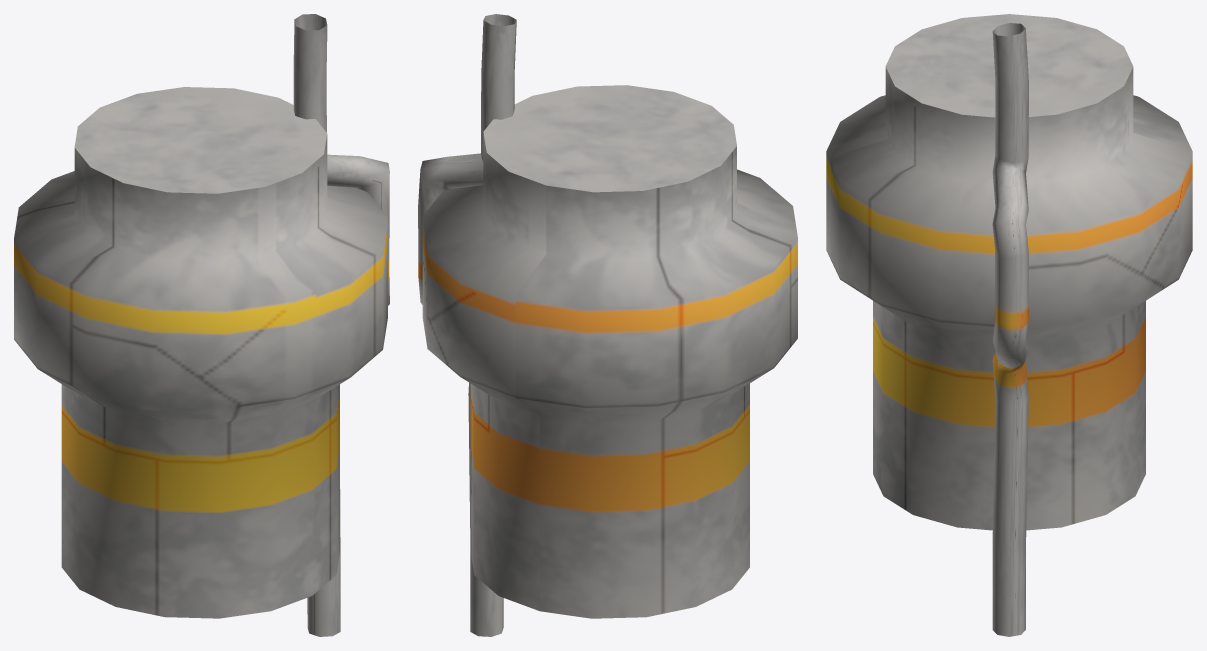
Rendered from Crev_03.fbx.
3 views of the same model, side by side, from view 1: azimuth 30°, elevation 25°; view 2: azimuth 150°, elevation 25°; view 3: azimuth 270°, elevation 25° (orthographic). The views are drawn at different scales.
Parts seen in each view (by area): view 1: Crev_03; view 2: Crev_03; view 3: Crev_03.
Boxes of the visible parts, box(x1,y1,x2,y2) form: Crev_03: box(14, 14, 389, 636); Crev_03: box(418, 14, 797, 636); Crev_03: box(826, 14, 1192, 636).
Bounding box in the file's own units: 43.81 × 72.93 × 40.69.
2 materials, 2 textured.
